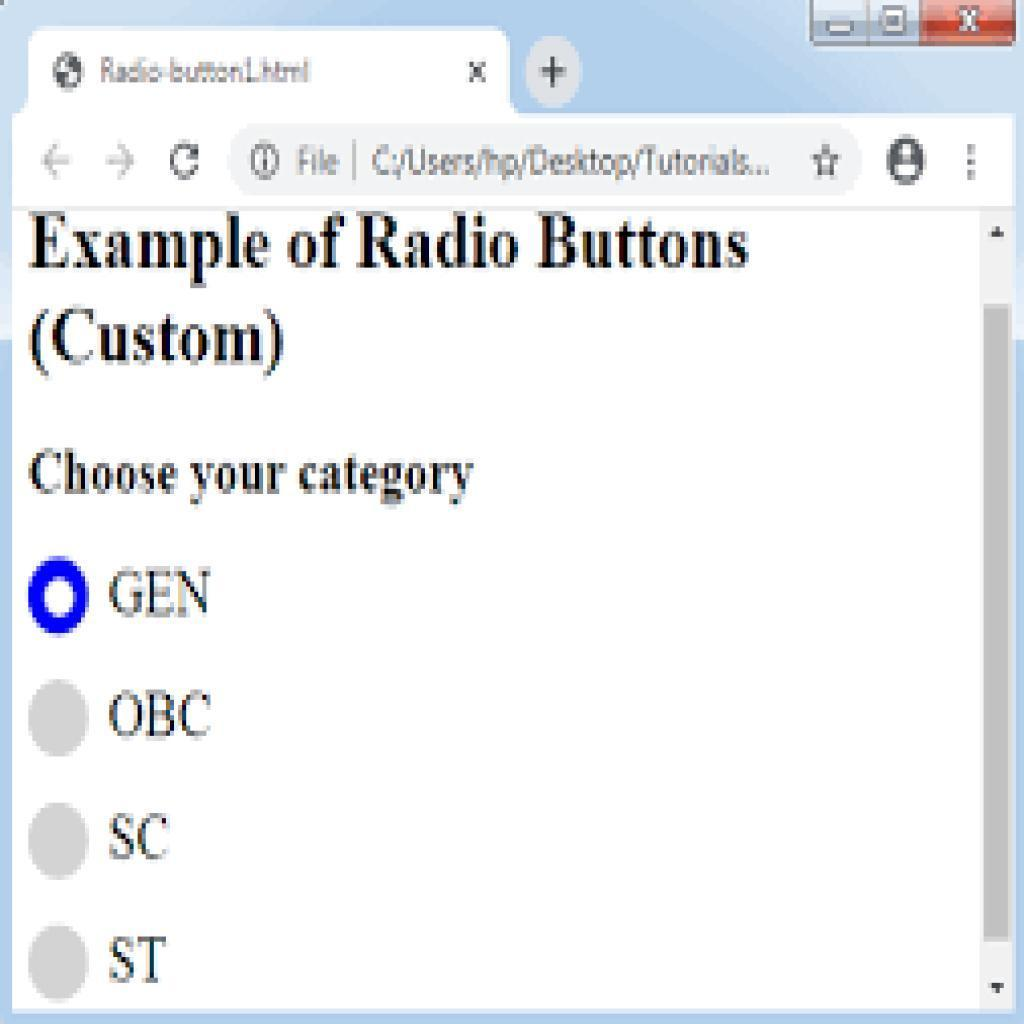icon: (882, 132, 932, 192), (167, 135, 208, 188), (100, 138, 140, 192), (817, 2, 870, 42), (531, 49, 576, 95), (37, 135, 79, 183), (804, 142, 847, 187), (871, 4, 916, 44), (958, 142, 992, 188), (954, 4, 990, 42), (465, 52, 495, 89)
label: (105, 682, 217, 748), (110, 560, 220, 622), (105, 811, 178, 865), (108, 932, 172, 984)
radio: (25, 922, 95, 1008), (25, 558, 94, 644), (28, 678, 93, 769), (25, 801, 93, 886)
